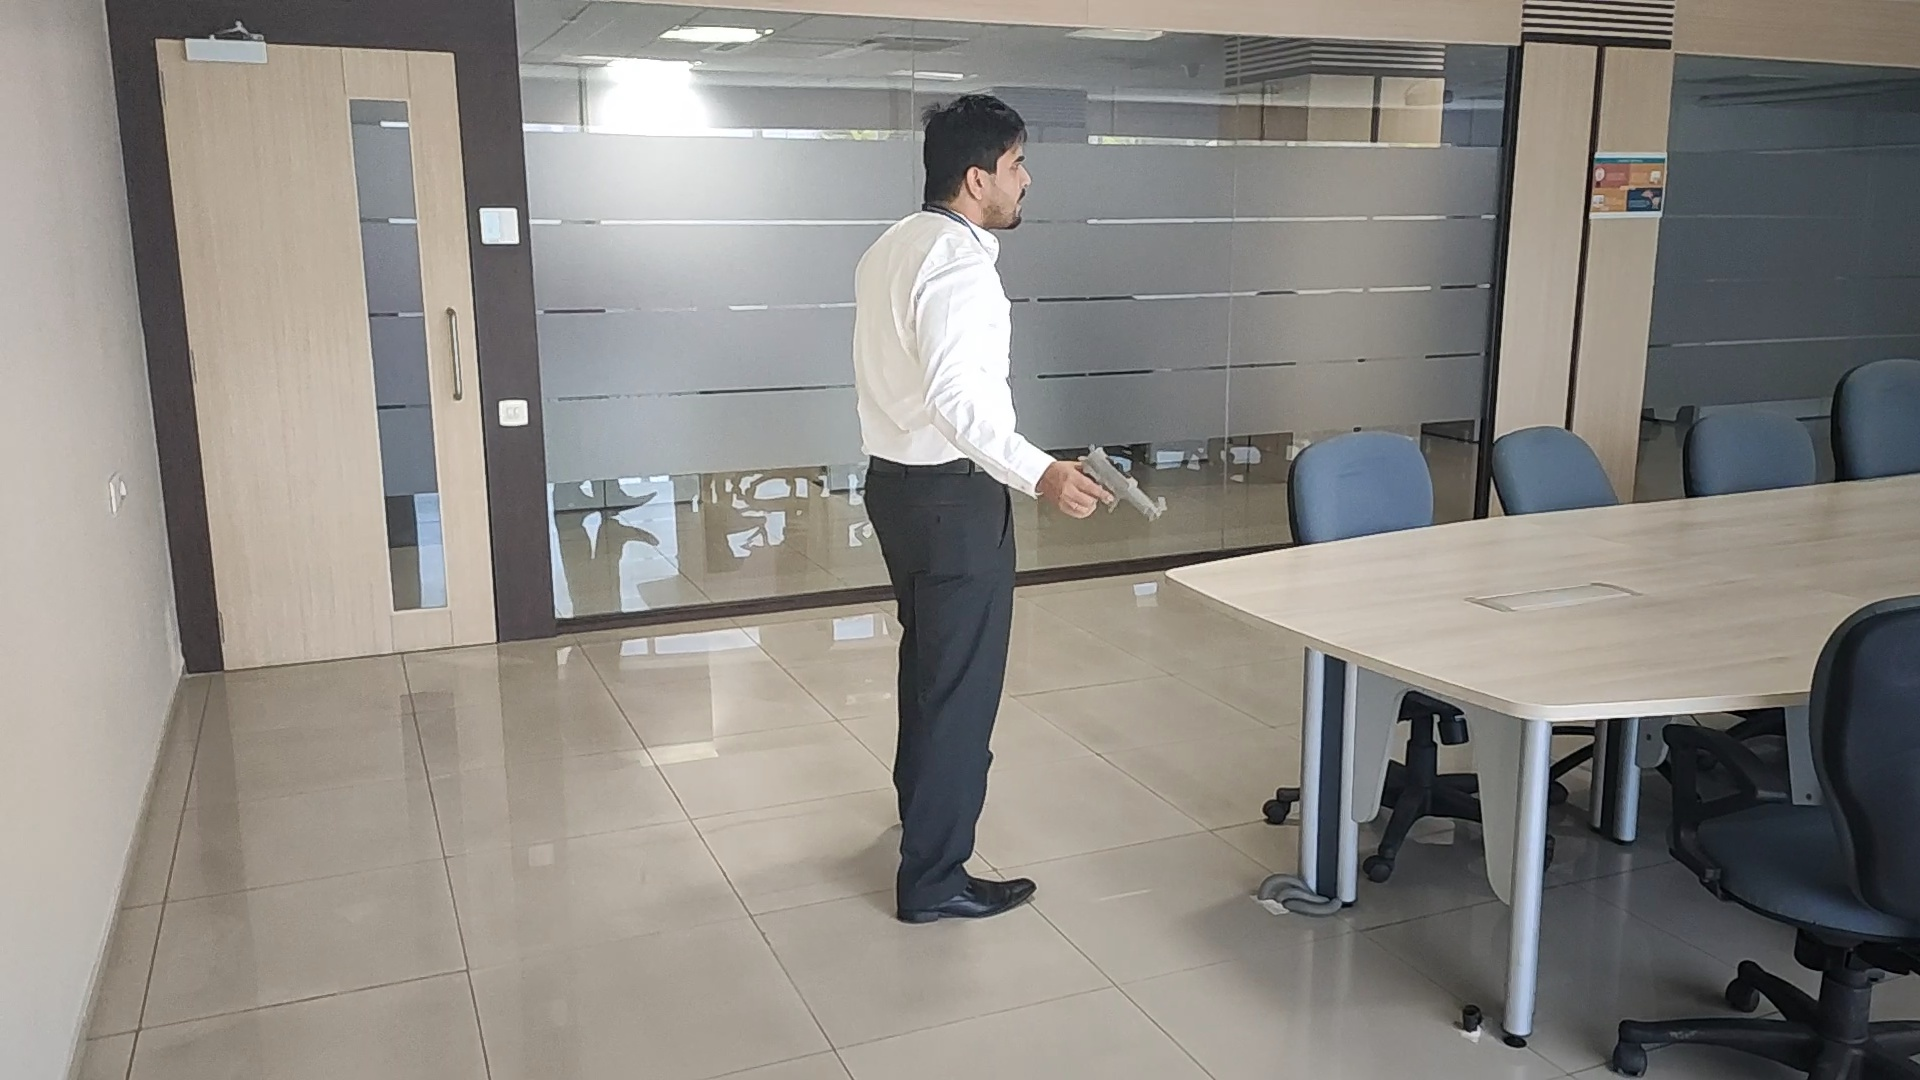gun: (1092, 447, 1164, 521)
